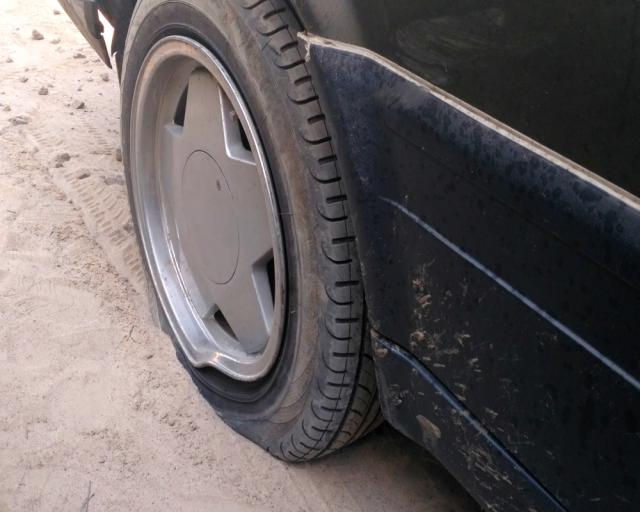tire flat: (120, 0, 386, 465)
